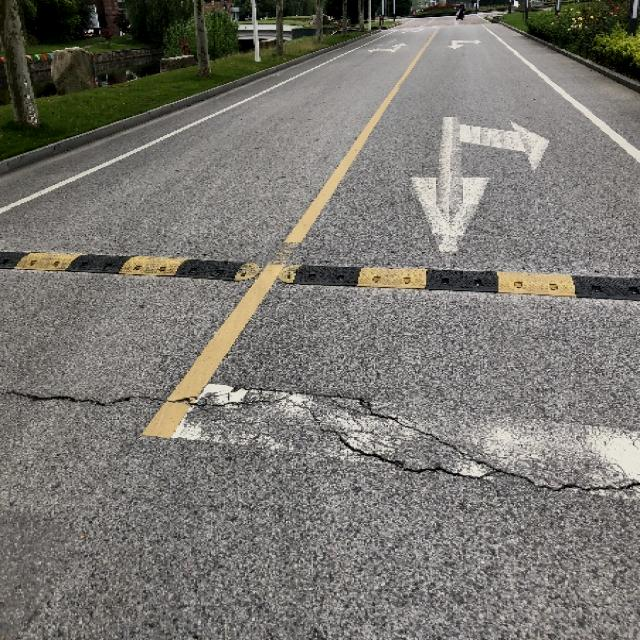Speed Bump: (0, 256, 636, 298)
